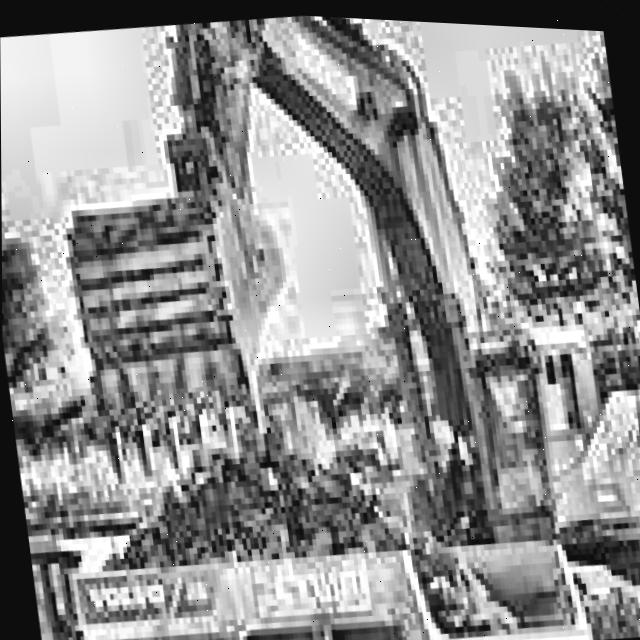dump_truck: (23, 439, 599, 640)
